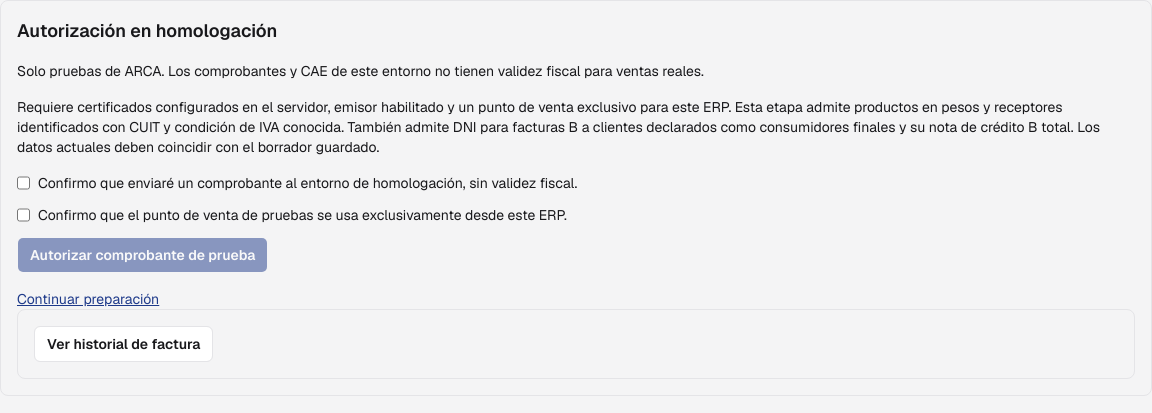
Test: requires two explicit confirmations and sends the displayed revision only once
The width and height of the screenshot is (1152, 413).
Check: the button "Autorizar comprobante de prueba" is disabled, box 17,237 -> 268,273
Click the 1st checkbox.
click(24, 183)  # box 17,173 -> 30,193
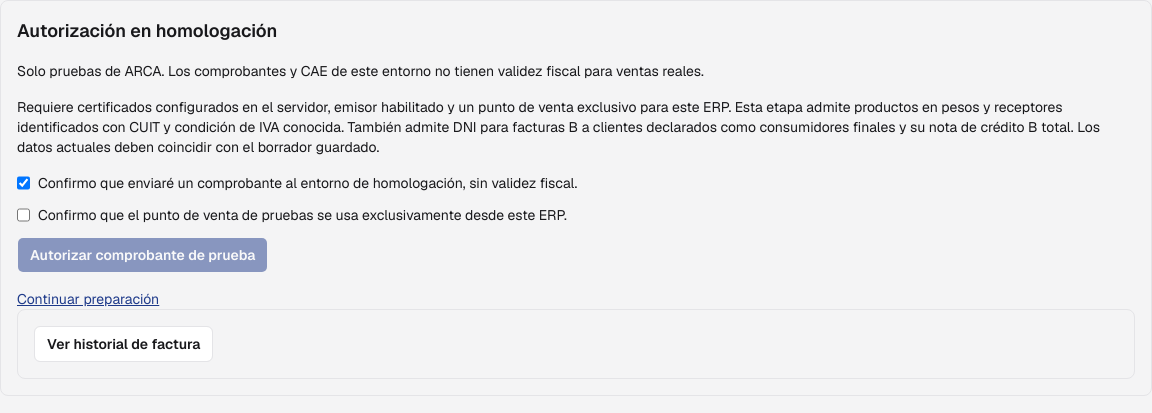
Check: the button "Autorizar comprobante de prueba" is disabled, box 17,237 -> 268,273
Click the 2nd checkbox.
click(24, 215)  # box 17,205 -> 30,225
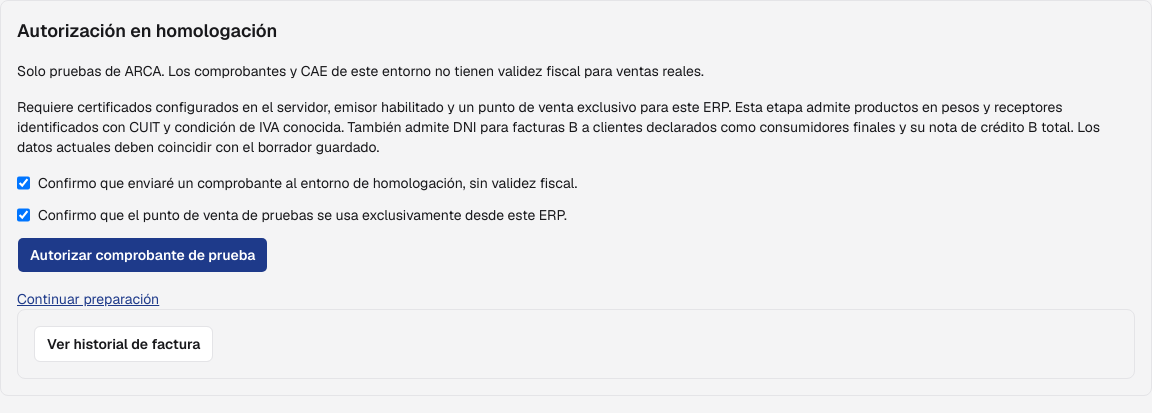
Click the button "Autorizar comprobante de prueba".
click(143, 255)  # box 17,237 -> 268,273
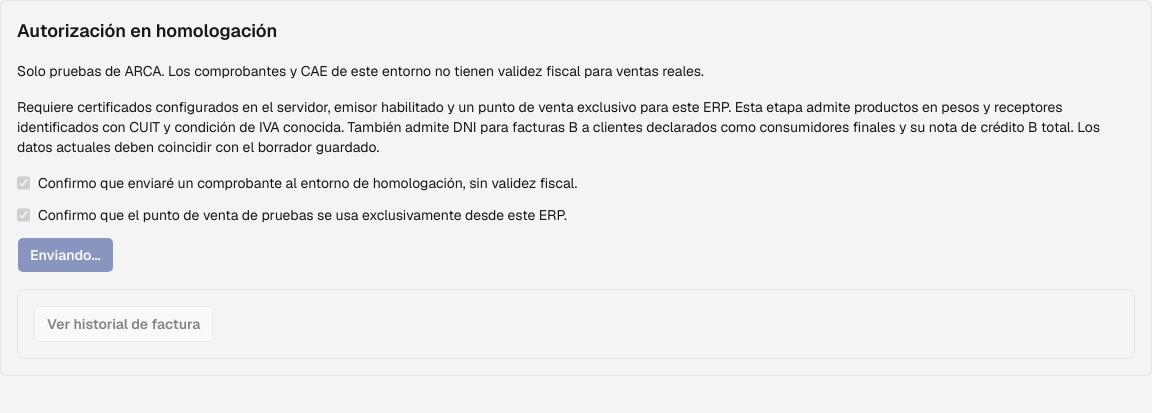
Click the button named "Autorizar comprobante de prueba".
click(65, 255)  # box 17,237 -> 114,273
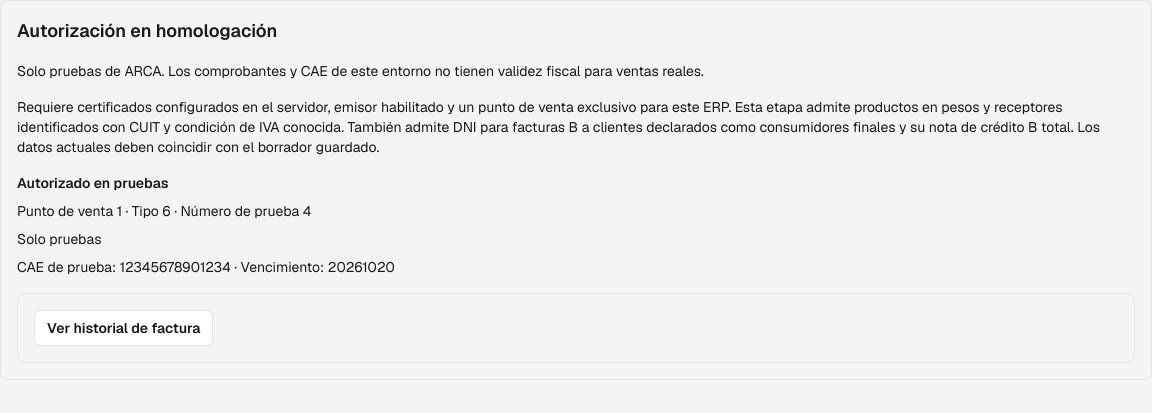
Check: the link "Continuar preparación" is not shown
Check: the text "CAE de prueba: 12345678901234 · Vencimiento: 20261020" is shown, box 17,258 -> 395,276
Check: the checkbox is gone
